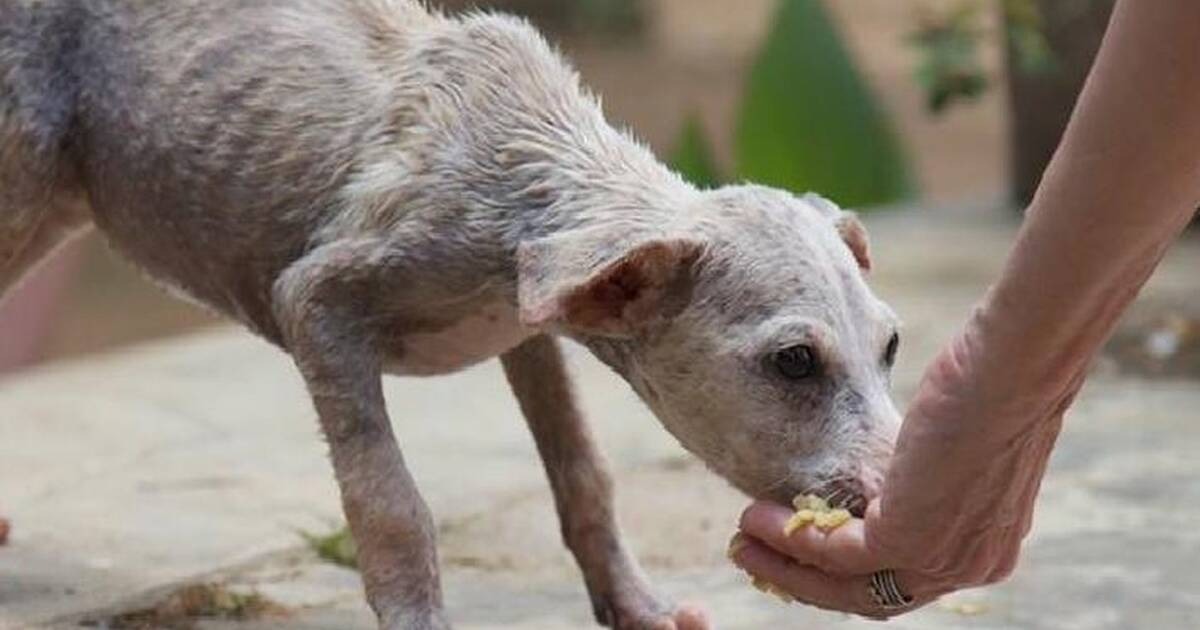Dog: (1, 1, 916, 528)
